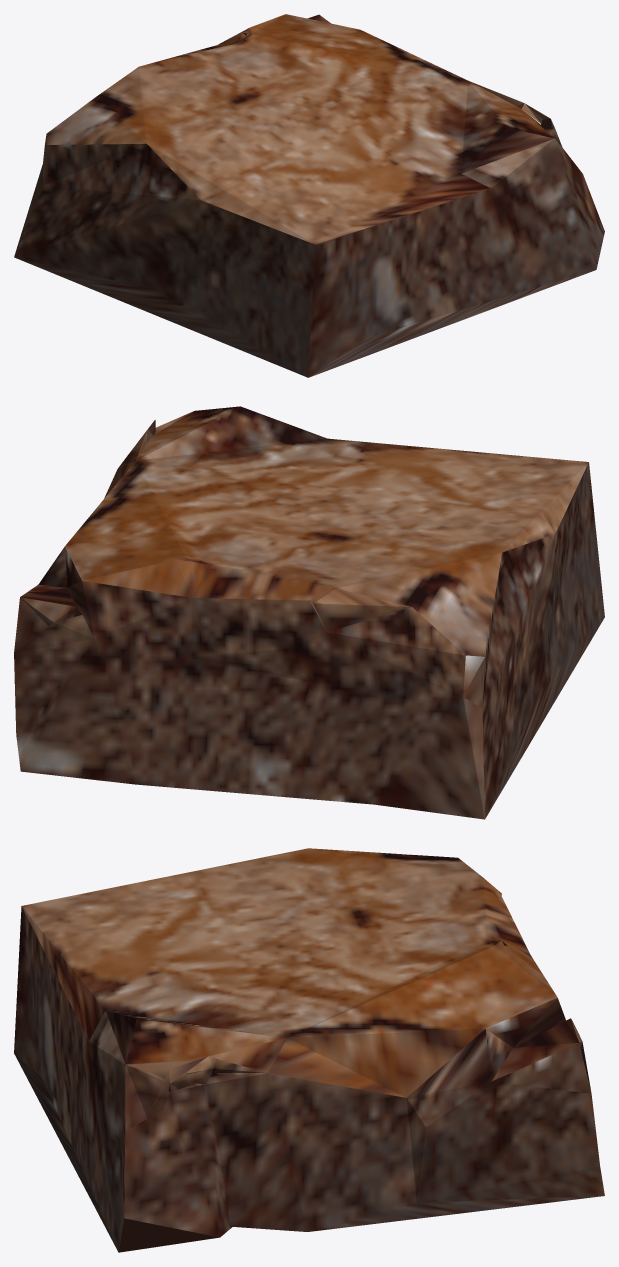
Rendered from CannabisBrownie.fbx.
3 views of the same model, one above another, from view 1: azimuth 30°, elevation 25°; view 2: azimuth 150°, elevation 25°; view 3: azimuth 270°, elevation 25° (orthographic). The views are drawn at different scales.
Parts seen in each view (by area): view 1: Cannabise Brownie; view 2: Cannabise Brownie; view 3: Cannabise Brownie.
Boxes of the visible parts, x1,y1,x2,y2 form: Cannabise Brownie: (14,14,604,377); Cannabise Brownie: (14,406,604,819); Cannabise Brownie: (14,848,604,1252).
Bounding box in the file's own units: 0.1069 × 0.0389 × 0.1042.
